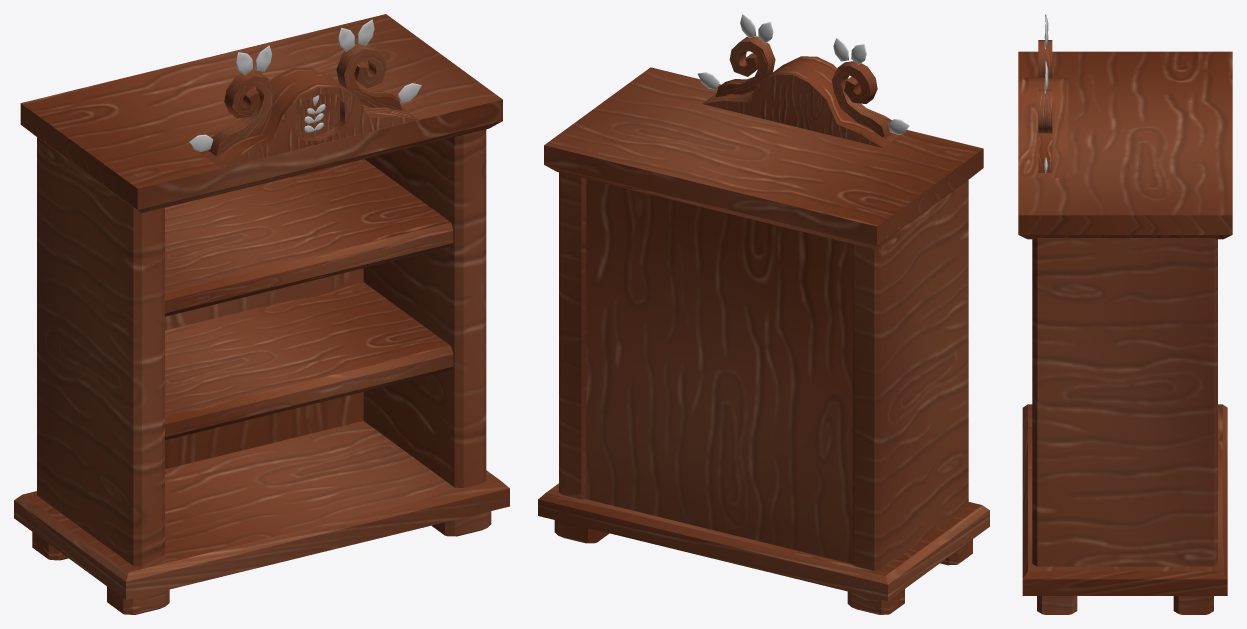
Rendered from ShelfVar2.fbx.
3 renders of one model, left to right at view 1: azimuth 30°, elevation 25°; view 2: azimuth 150°, elevation 25°; view 3: azimuth 270°, elevation 25°, orthographic. The views are drawn at different scales.
Parts seen in each view (by area): view 1: ShelfVar2; view 2: ShelfVar2; view 3: ShelfVar2.
Boxes of the visible parts, x1,y1,x2,y2 form: ShelfVar2: [14, 14, 509, 614]; ShelfVar2: [538, 14, 989, 614]; ShelfVar2: [1018, 14, 1232, 614].
Bounding box in the file's own units: 229 × 305 × 121.
